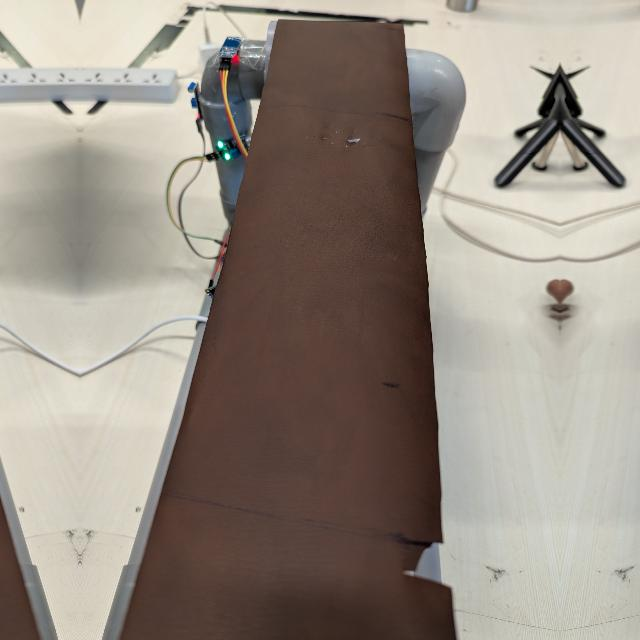belt_crack: (292, 100, 393, 159)
belt_tear: (396, 502, 459, 601)
